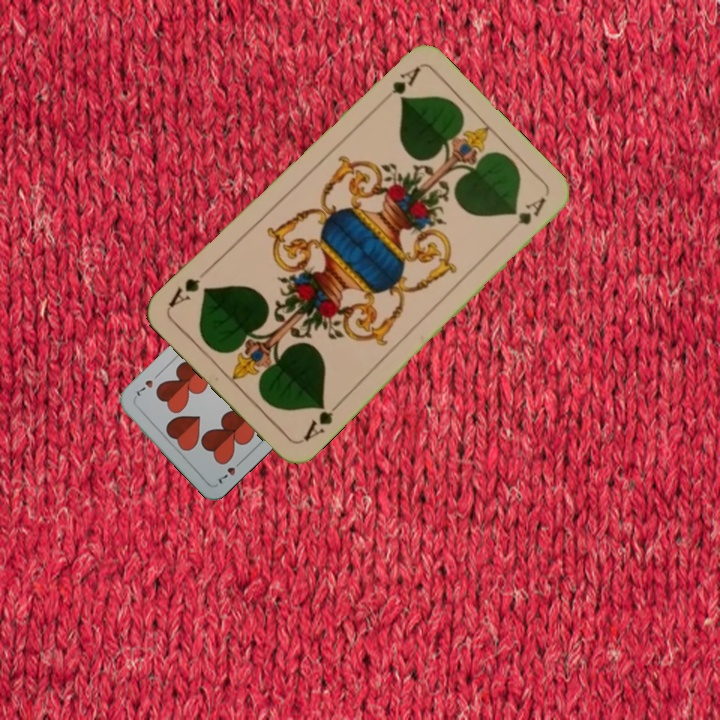GA: (297, 397, 343, 444), (387, 63, 423, 98)
H7: (213, 455, 246, 487)
